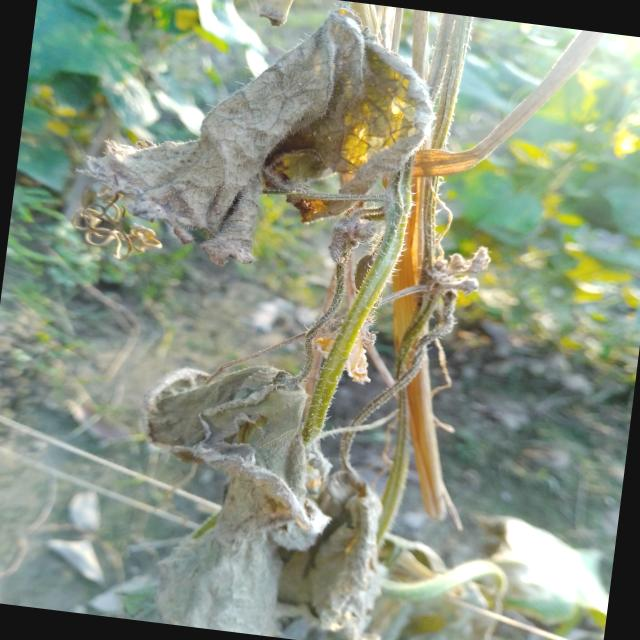cucumber_bacterial: (45, 0, 431, 278), (93, 343, 425, 640), (398, 200, 500, 338)
